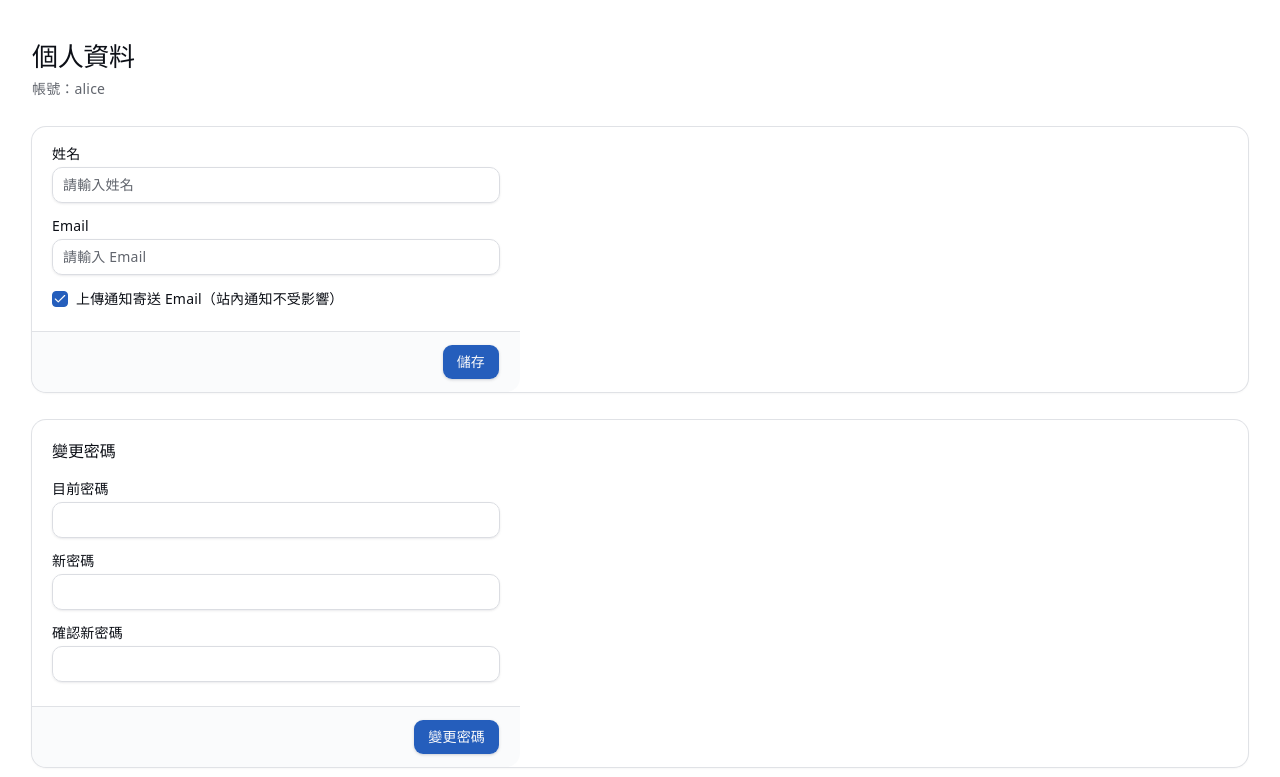
Test: ProfilePage › shows an error when updating the profile fails
In the field labelled "姓名": (276, 184) [52, 166, 500, 202], type "Alice Chen"
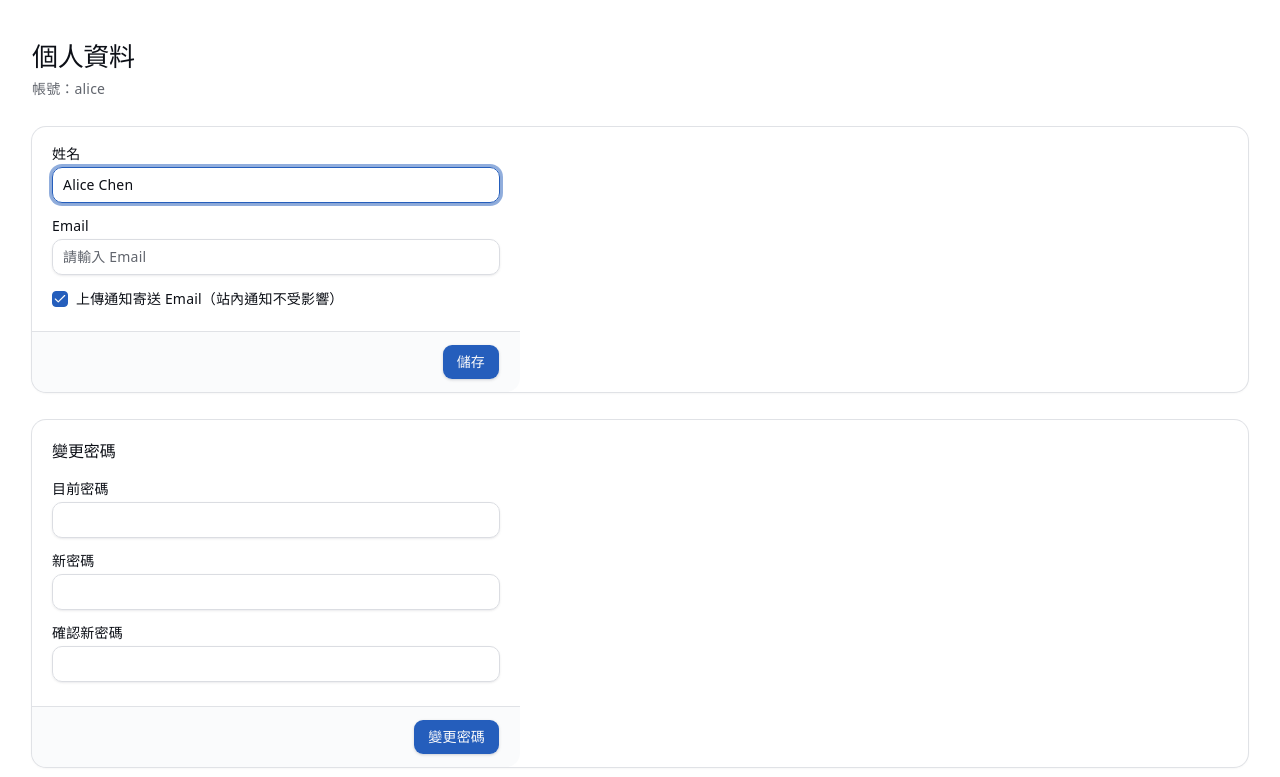
Click the button "儲存": (471, 362) [442, 344, 500, 380]
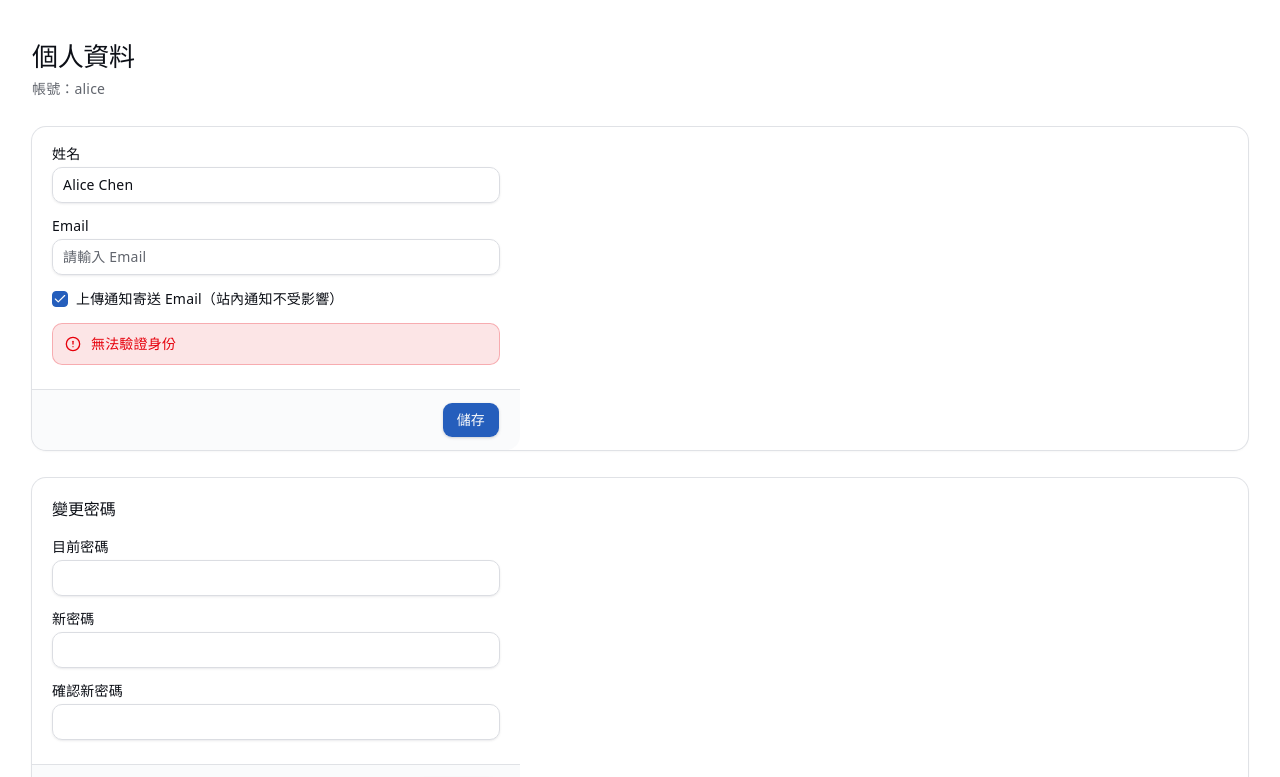
Now the text "無法驗證身份" is shown, box [91, 334, 176, 354]
